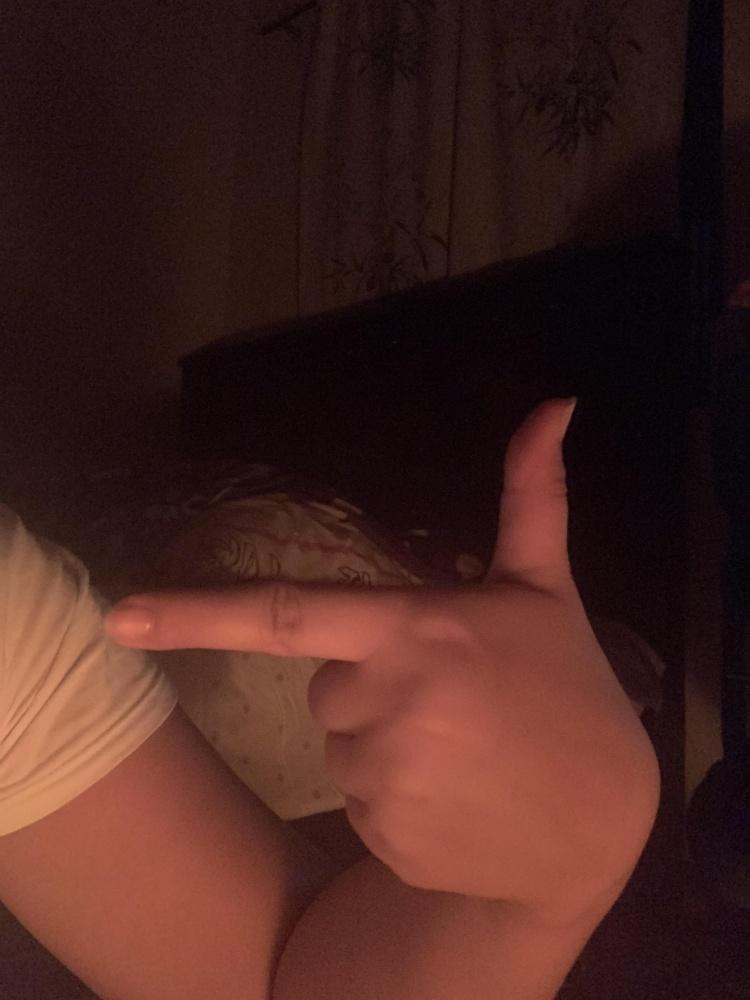g: (99, 396, 663, 901)
